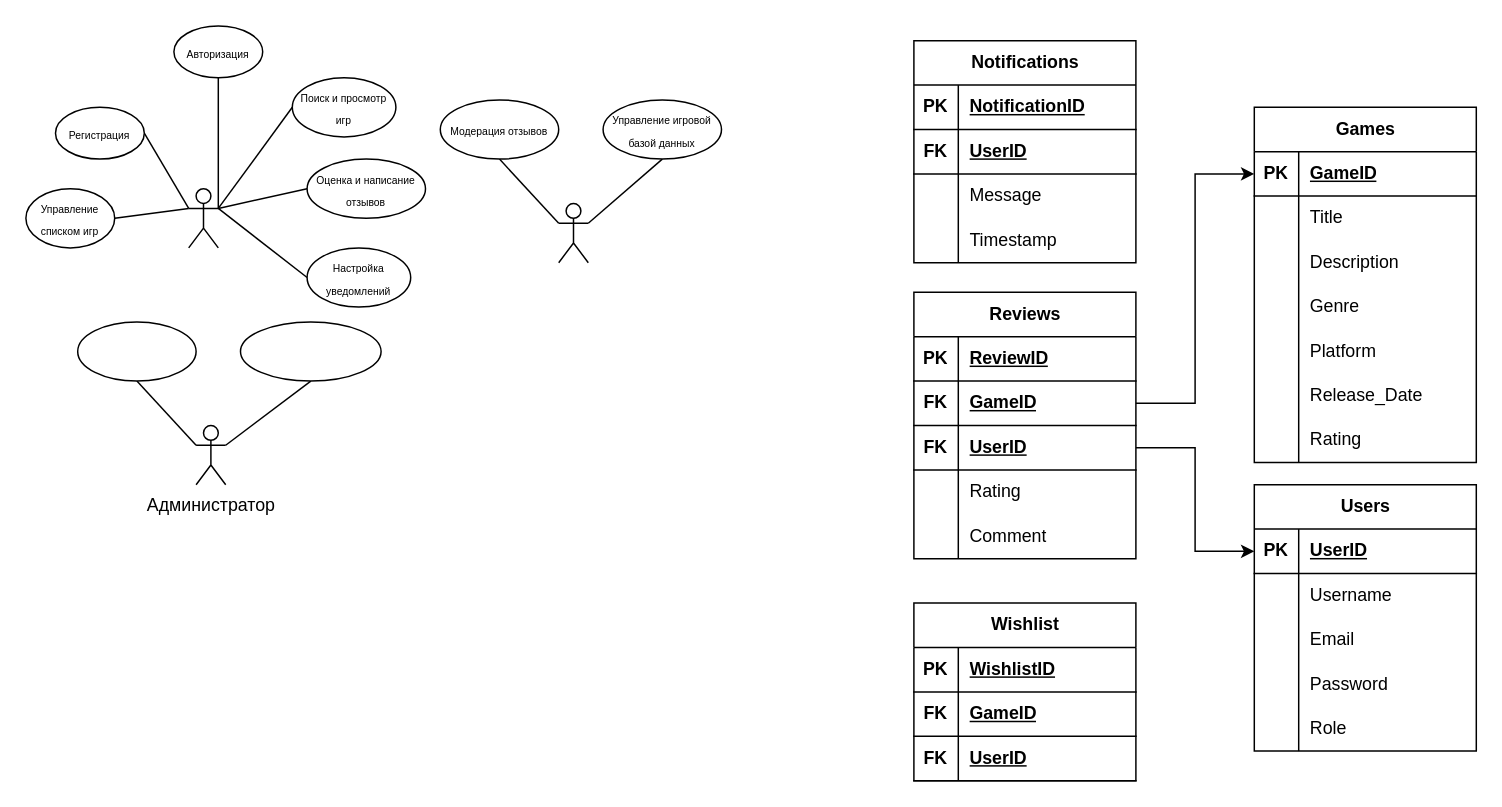
The diagram is 1502 pixels wide and 807 high, and some of its shapes have lost their labels. Each missing label, with the centre of its shape:
Модератор: point 572,232
Пользователь: point 202,217
Управление настройками приложения: point 310,350
Управление пользователями: point 136,350
